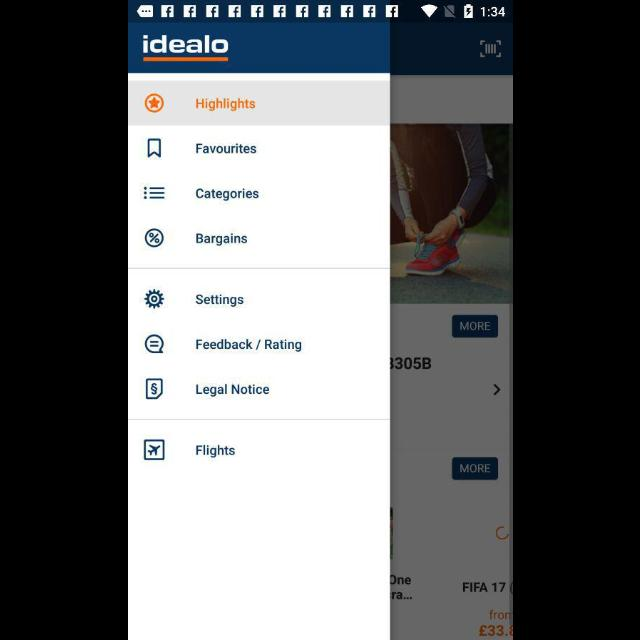icon: (144, 334, 164, 354), (144, 289, 164, 309), (144, 94, 164, 114), (145, 378, 163, 400), (143, 186, 165, 200), (147, 139, 161, 159)
image: (142, 35, 228, 63), (144, 439, 164, 461), (144, 228, 164, 248)
panel: (128, 24, 390, 640)
text: (196, 339, 302, 353), (195, 383, 269, 397), (195, 188, 259, 202), (194, 98, 256, 112), (195, 143, 257, 155), (195, 233, 247, 247), (195, 294, 243, 308), (196, 444, 236, 458)
uppertaskbar: (128, 1, 512, 23)
